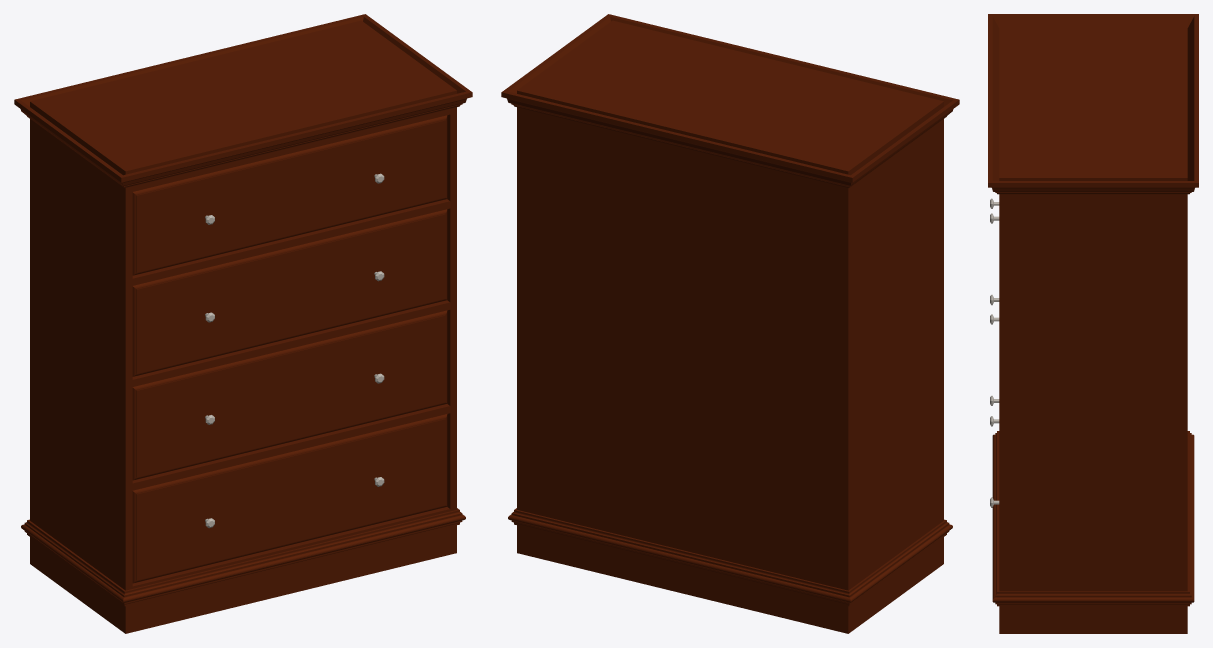
File: dresser.glb
The picture shows the model from 3 angles, left to right: view 1: azimuth 30°, elevation 25°; view 2: azimuth 150°, elevation 25°; view 3: azimuth 270°, elevation 25°; orthographic projection.
Visible parts, largest first — view 1: Node; view 2: Node; view 3: Node.
Boxes of the visible parts, <box> form: Node: <box>14,14,472,633</box>; Node: <box>501,14,959,633</box>; Node: <box>988,14,1198,633</box>.
Size of the model in its own units: 38.13 by 48 by 20.12.
